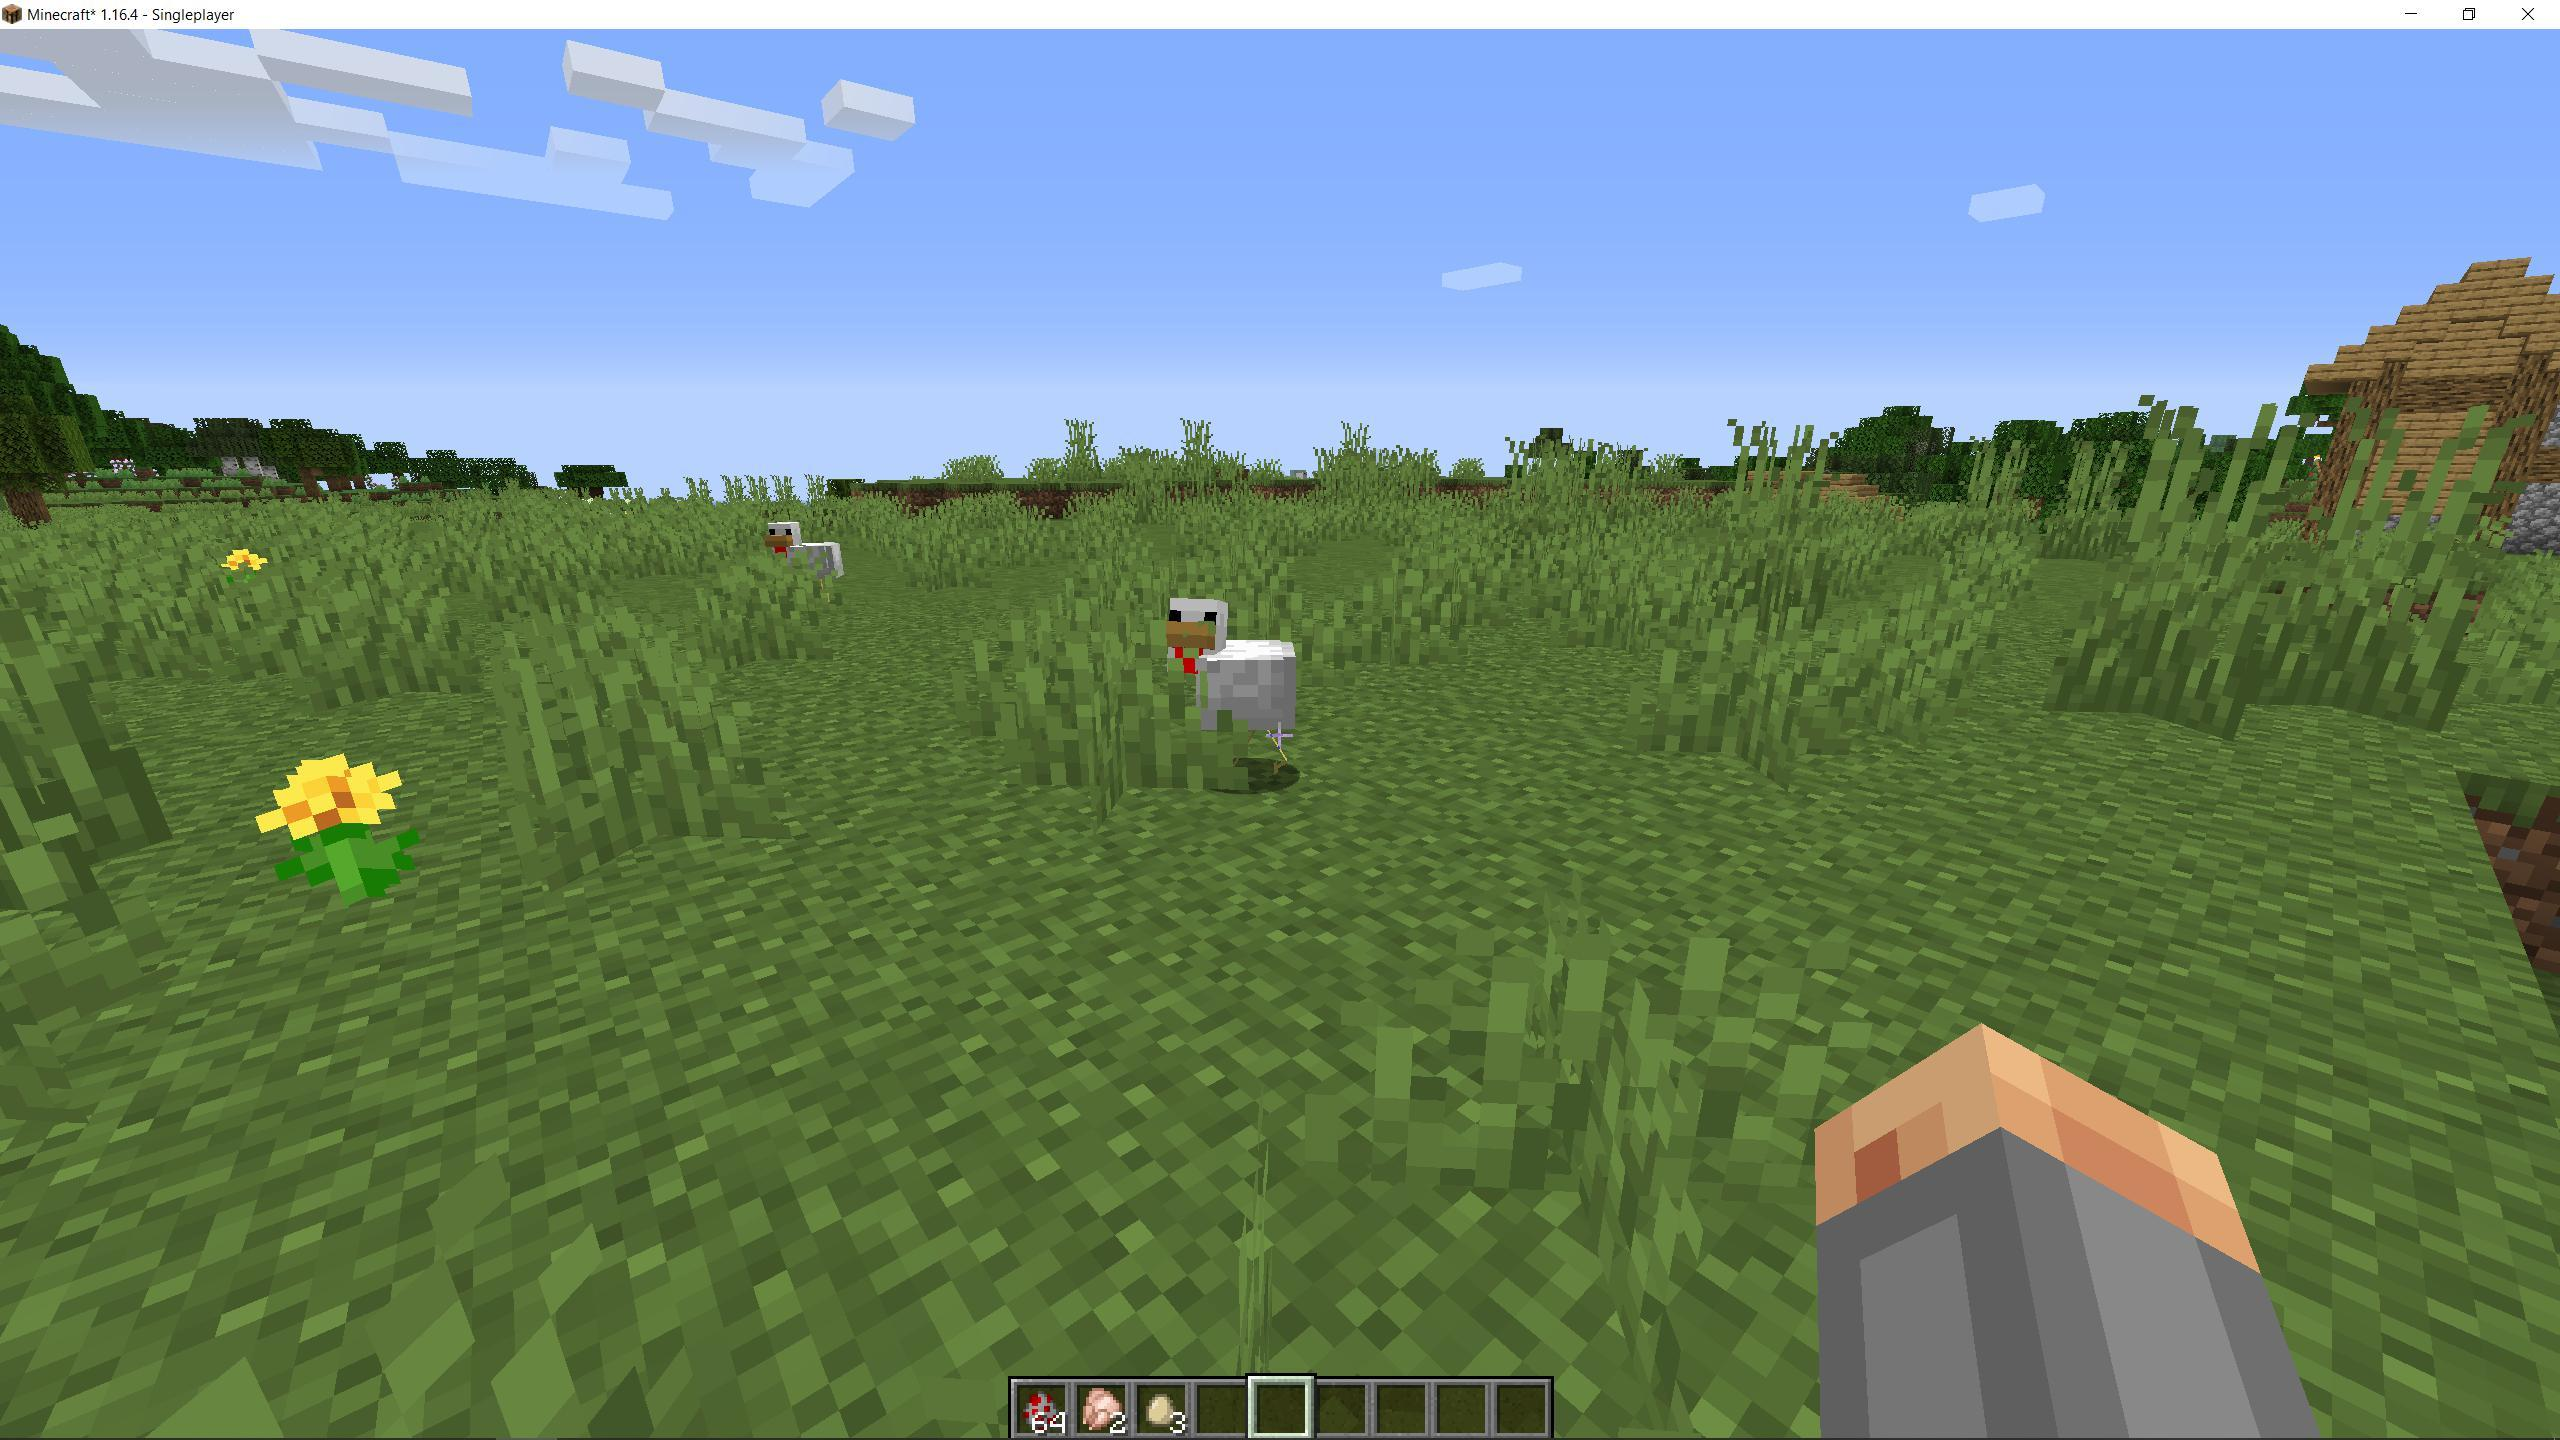chicken: (1139, 571, 1333, 809), (747, 503, 870, 622)
